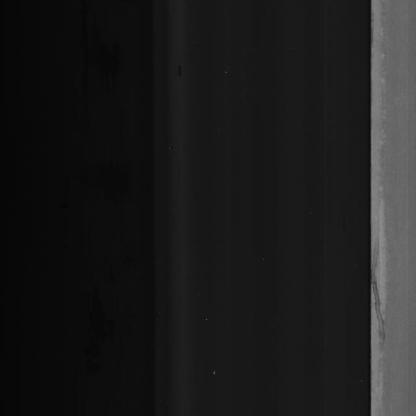water_spot: (372, 241, 399, 354)
